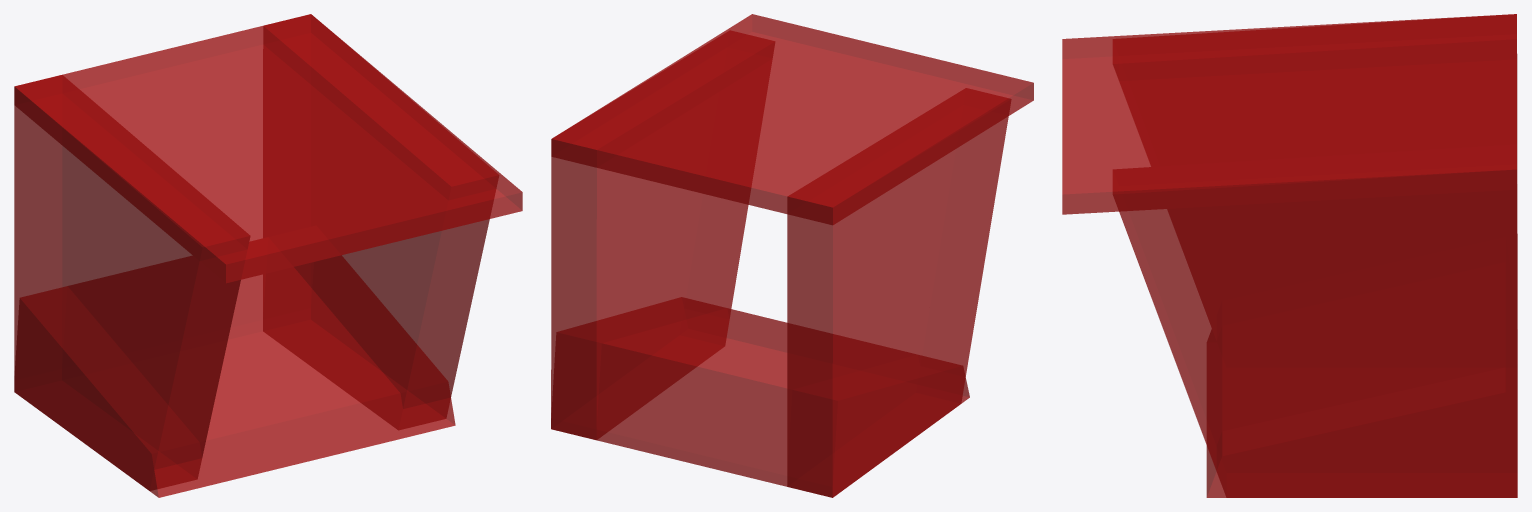
The model's file is SM_Prop_Vent_06_Collision.fbx.
3 renders of one model, left to right at view 1: azimuth 30°, elevation 25°; view 2: azimuth 150°, elevation 25°; view 3: azimuth 270°, elevation 25°, orthographic. The views are drawn at different scales.
Visible parts, largest first — view 1: SM_Prop_Vent_06_Collision; view 2: SM_Prop_Vent_06_Collision; view 3: SM_Prop_Vent_06_Collision.
Part boxes in pixels (x1,y1,x2,y2): SM_Prop_Vent_06_Collision: (14,14,522,497); SM_Prop_Vent_06_Collision: (551,14,1033,497); SM_Prop_Vent_06_Collision: (1062,14,1517,497).
Bounding box in the file's own units: 157 × 154 × 194.
